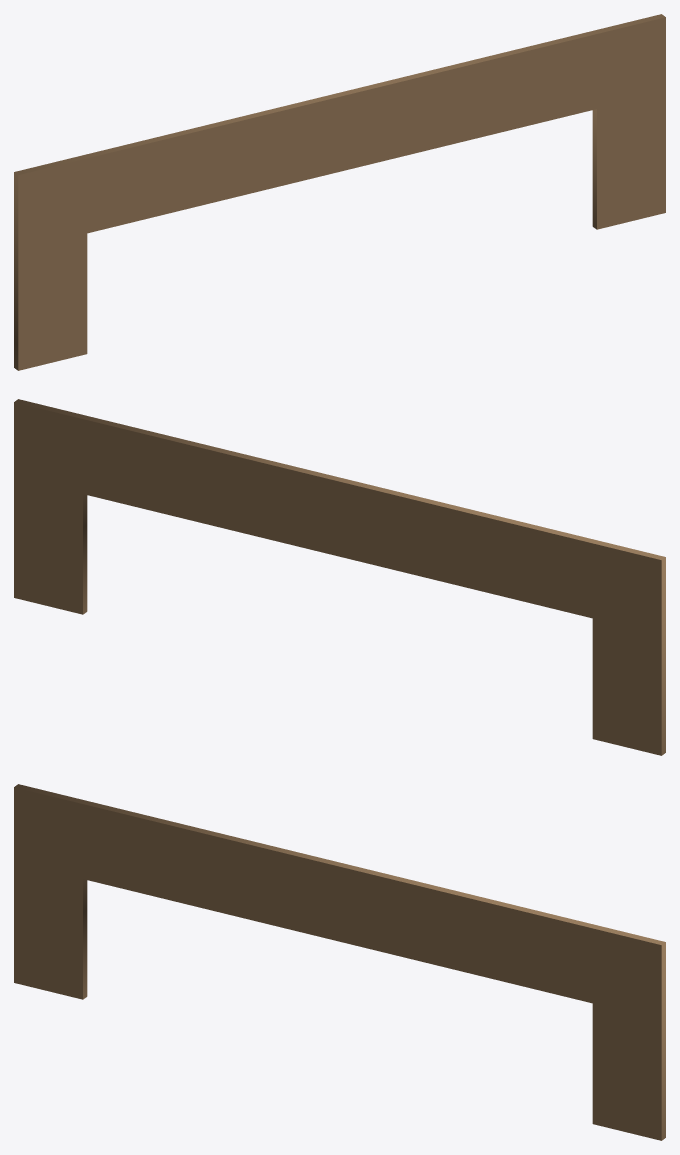
File: S_wall.fbx
3 renders of one model, top to bottom at view 1: azimuth 30°, elevation 25°; view 2: azimuth 150°, elevation 25°; view 3: azimuth 330°, elevation 25°, orthographic.
Parts seen in each view (by area): view 1: Cube.001; view 2: Cube.001; view 3: Cube.001.
Part boxes in pixels (box(x1,y1,x2,y2)): Cube.001: box(14, 14, 665, 370); Cube.001: box(14, 399, 665, 755); Cube.001: box(14, 784, 665, 1140).
Bounding box in the file's own units: 34.58 × 9.98 × 0.3971.
